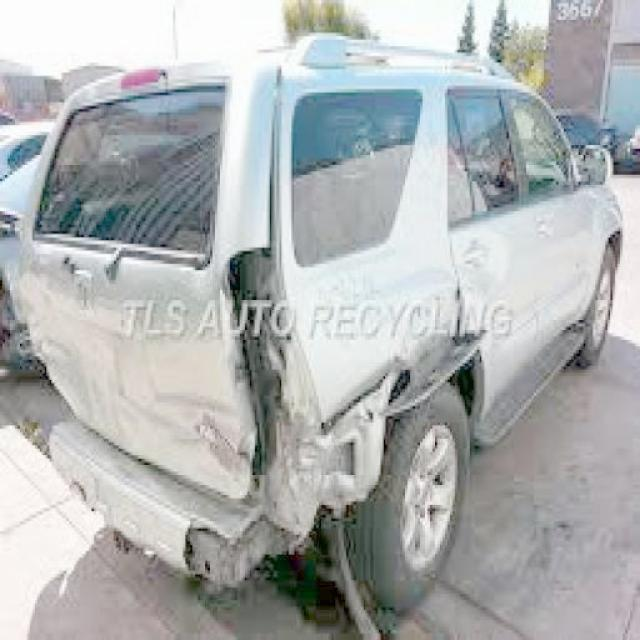car damage: (24, 245, 482, 580)
